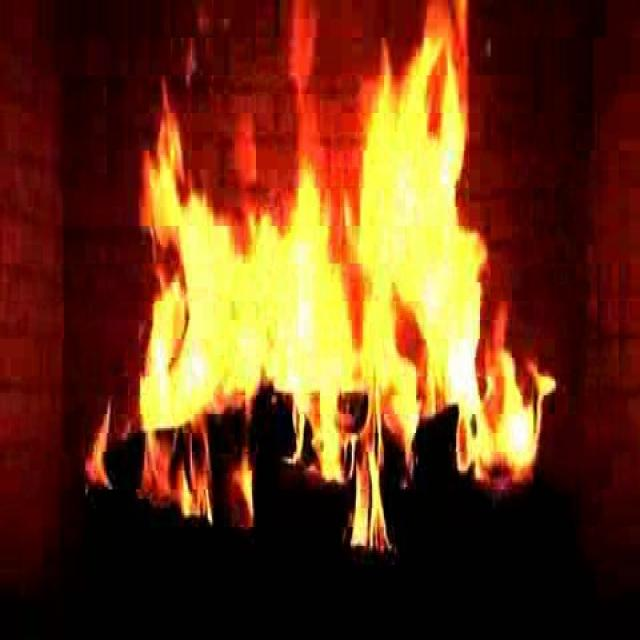fire: (136, 34, 546, 520)
